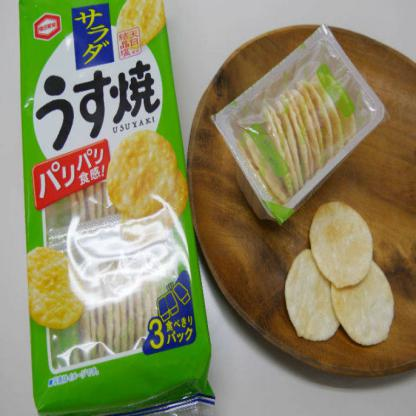potatochip: (9, 0, 221, 415)
